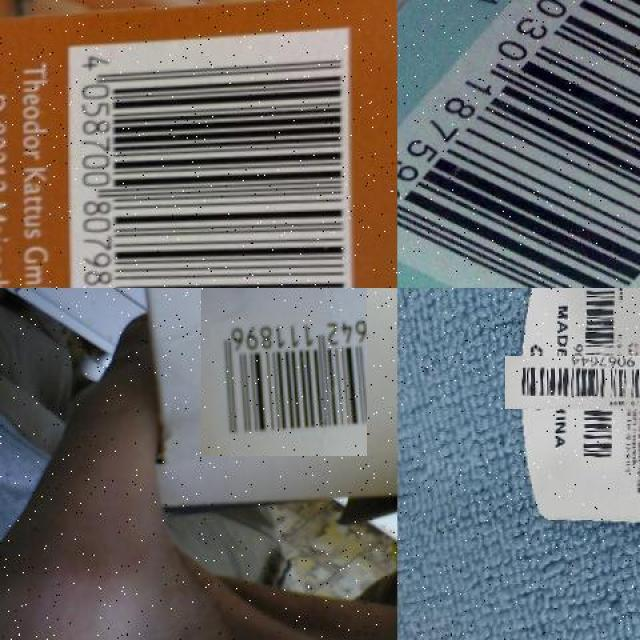Barcode: (71, 29, 356, 288), (397, 0, 640, 288), (200, 288, 368, 455), (539, 322, 640, 443)
